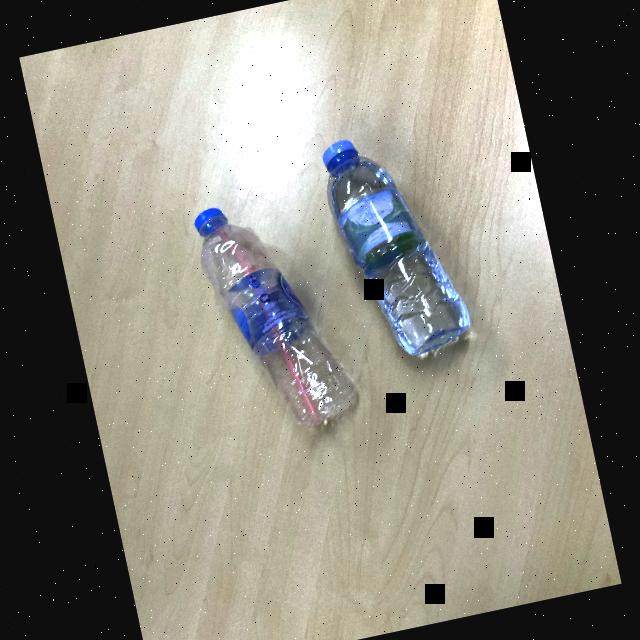plastic_bottle: (188, 182, 364, 454), (314, 119, 477, 374)
plastic_bottle_cap: (317, 133, 363, 175), (189, 205, 232, 242)
